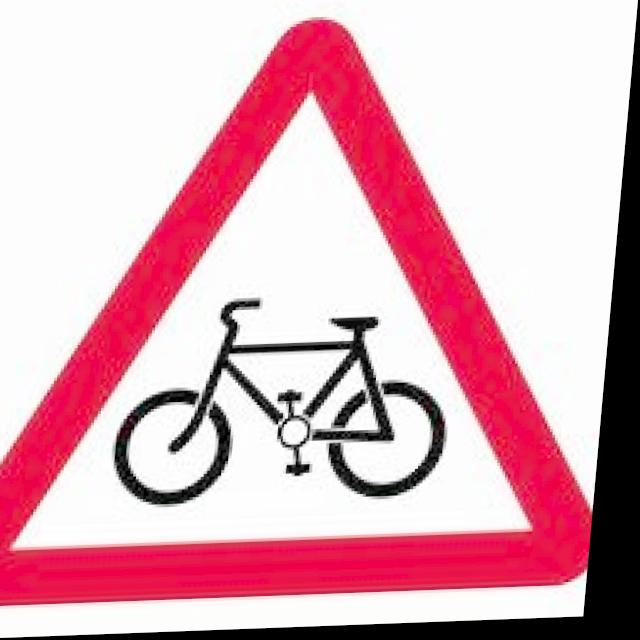CYCLE_CROSSING: (0, 7, 638, 640)
